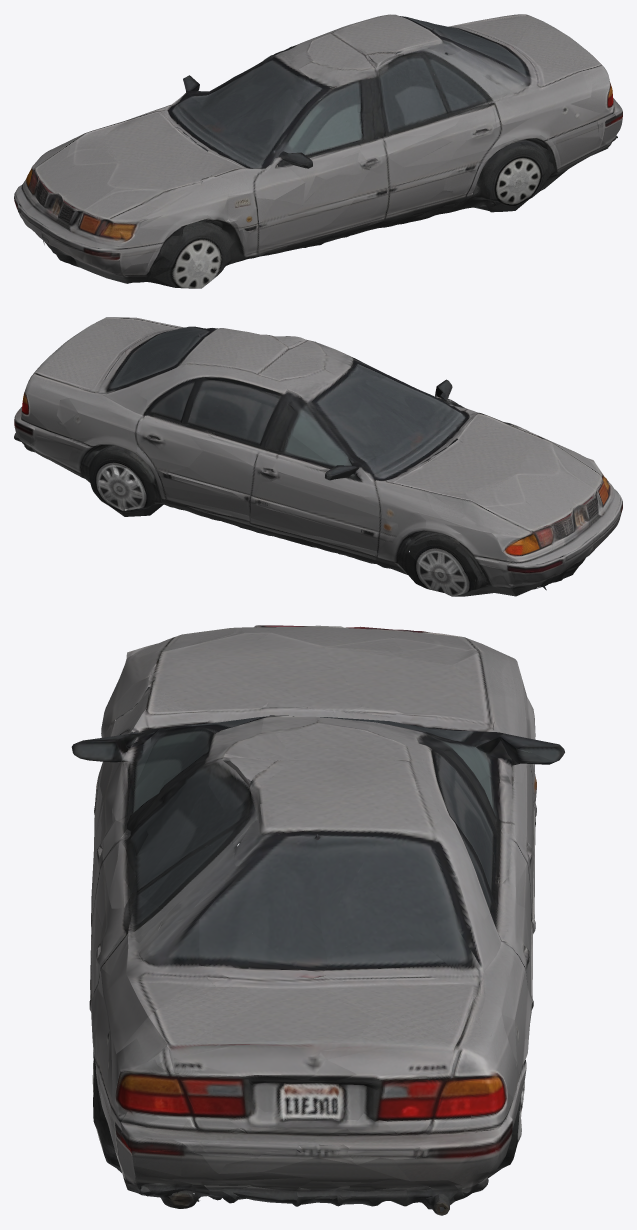
The model's file is silver-city-sedan.glb.
3 renders of one model, top to bottom at view 1: azimuth 30°, elevation 25°; view 2: azimuth 150°, elevation 25°; view 3: azimuth 270°, elevation 25°, orthographic. The views are drawn at different scales.
Parts seen in each view (by area): view 1: Mesh_0; view 2: Mesh_0; view 3: Mesh_0.
Part boxes in pixels (x1,y1,x2,y2): Mesh_0: [14, 14, 622, 288]; Mesh_0: [14, 317, 622, 596]; Mesh_0: [71, 625, 564, 1215].
Size of the model in its own units: 1.9 by 0.5408 by 0.7474.
Materials: 1 (1 with a texture image).
